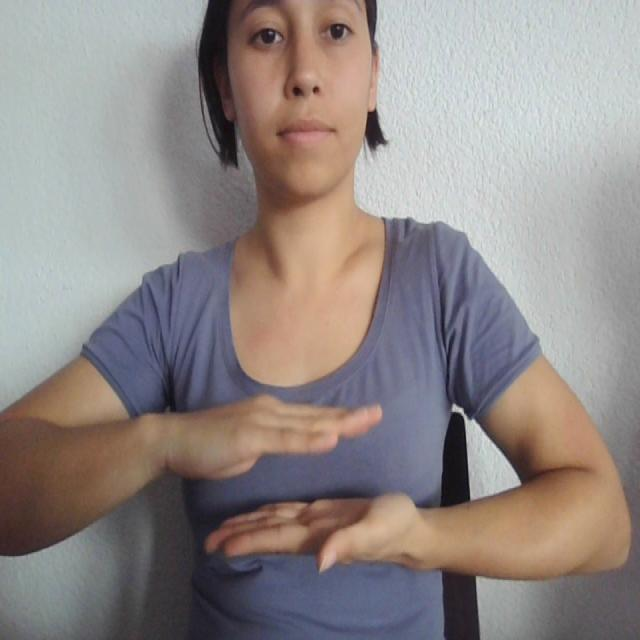Arkadas: (127, 382, 505, 598)
